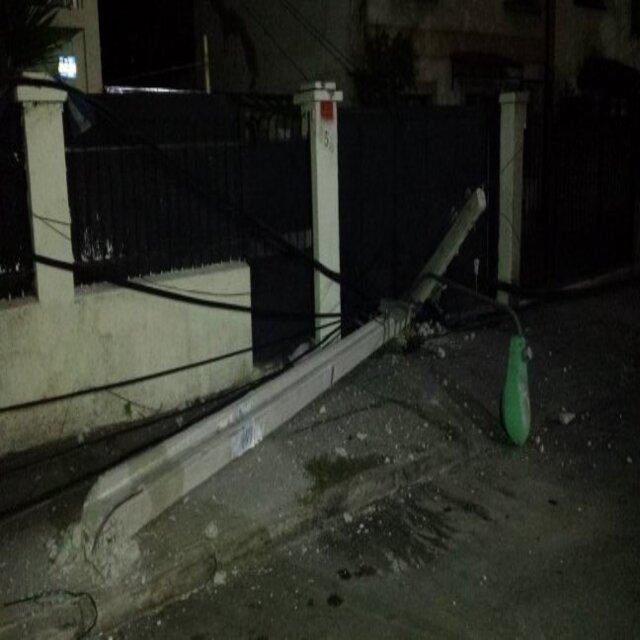Inclined Pole: (71, 179, 485, 578)
